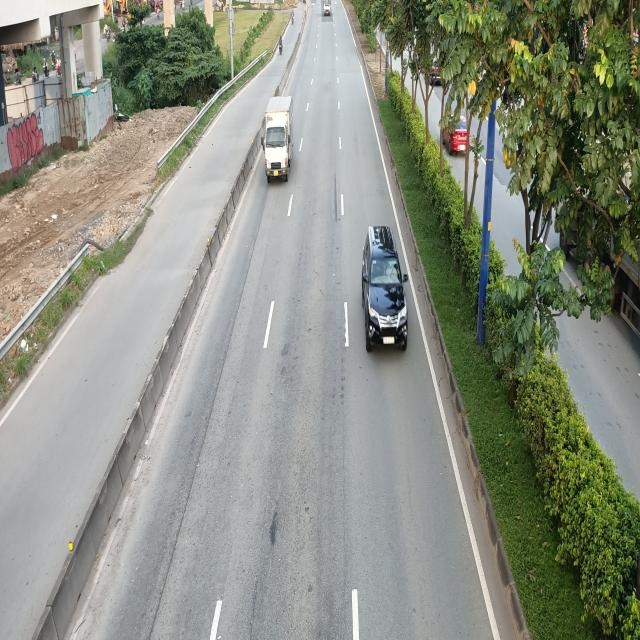car: (360, 224, 408, 352)
truck: (263, 94, 294, 181)
